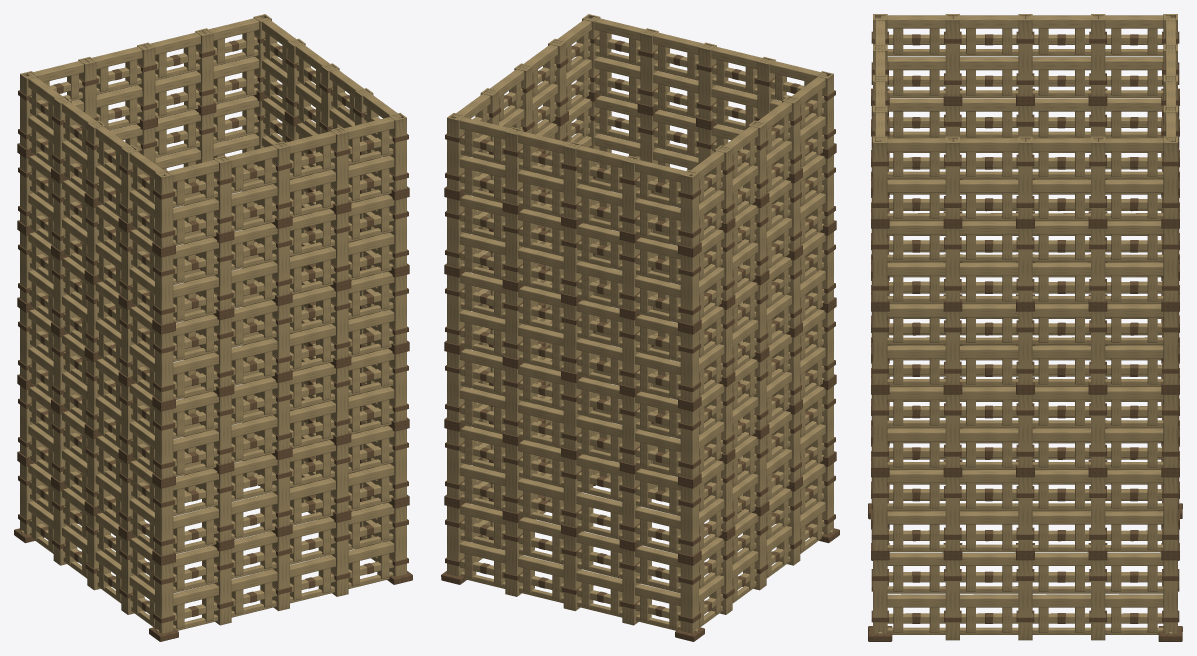
3 renders of one model, left to right at view 1: azimuth 30°, elevation 25°; view 2: azimuth 150°, elevation 25°; view 3: azimuth 270°, elevation 25°, orthographic. The views are drawn at different scales.
Parts seen in each view (by area): view 1: Tier 5 side 0 post 0, Tier 0 side 0 post 0, Tier 3 side 0 post 0, Tier 2 side 0 post 0, Tier 4 side 0 post 0, Tier 1 side 0 post 0, Tier 5 side 2 post 2, Tier 0 side 0 post 1, Tier 0 side 0 post 3, Tier 5 side 0 post 1, Tier 5 side 0 post 3, Tier 5 side 2 post 1 (+107 smaller); view 2: Tier 5 side 3 post 0, Tier 0 side 3 post 0, Tier 2 side 3 post 0, Tier 3 side 3 post 0, Tier 4 side 3 post 0, Tier 1 side 3 post 0, Tier 0 side 2 post 2, Tier 5 side 2 post 2, Tier 5 side 0 post 2, Tier 0 side 2 post 1, Tier 5 side 2 post 1, Tier 0 side 2 post 3 (+107 smaller); view 3: Tier 5 side 1 post 2, Tier 0 side 1 post 2, Tier 0 side 1 post 1, Tier 0 side 1 post 3, Tier 5 side 1 post 1, Tier 5 side 1 post 3, Tier 5 side 2 post 0, Tier 5 side 1 post 0, Tier 5 side 3 post 2, Tier 5 side 3 post 1, Tier 5 side 3 post 3, Tier 3 side 1 post 0 (+81 smaller).
Boxes of the visible parts, bbox=[...] form: Tier 5 side 0 post 0: bbox=[155, 170, 173, 247]; Tier 0 side 0 post 0: bbox=[155, 562, 173, 633]; Tier 3 side 0 post 0: bbox=[155, 330, 173, 401]; Tier 2 side 0 post 0: bbox=[155, 407, 173, 478]; Tier 4 side 0 post 0: bbox=[155, 253, 173, 324]; Tier 1 side 0 post 0: bbox=[155, 484, 173, 555]; Tier 5 side 2 post 2: bbox=[137, 42, 155, 120]; Tier 0 side 0 post 1: bbox=[214, 548, 231, 625]; Tier 0 side 0 post 3: bbox=[331, 520, 348, 596]; Tier 5 side 0 post 1: bbox=[213, 155, 231, 233]; Tier 5 side 0 post 3: bbox=[330, 127, 348, 204]; Tier 5 side 2 post 1: bbox=[195, 28, 213, 106]; Tier 5 side 3 post 0: bbox=[680, 170, 698, 247]; Tier 0 side 3 post 0: bbox=[680, 562, 698, 633]; Tier 2 side 3 post 0: bbox=[680, 407, 698, 478]; Tier 3 side 3 post 0: bbox=[680, 330, 698, 401]; Tier 4 side 3 post 0: bbox=[680, 253, 698, 324]; Tier 1 side 3 post 0: bbox=[680, 484, 698, 555]; Tier 0 side 2 post 2: bbox=[563, 534, 581, 611]; Tier 5 side 2 post 2: bbox=[563, 141, 581, 219]; Tier 5 side 0 post 2: bbox=[698, 42, 716, 120]; Tier 0 side 2 post 1: bbox=[505, 520, 523, 596]; Tier 5 side 2 post 1: bbox=[505, 127, 523, 204]; Tier 0 side 2 post 3: bbox=[622, 548, 640, 625]; Tier 5 side 1 post 2: bbox=[1018, 136, 1032, 218]; Tier 0 side 1 post 2: bbox=[1018, 560, 1032, 640]; Tier 0 side 1 post 1: bbox=[945, 560, 959, 640]; Tier 0 side 1 post 3: bbox=[1091, 560, 1105, 640]; Tier 5 side 1 post 1: bbox=[945, 136, 959, 218]; Tier 5 side 1 post 3: bbox=[1091, 136, 1105, 218]; Tier 5 side 2 post 0: bbox=[1163, 136, 1177, 218]; Tier 5 side 1 post 0: bbox=[873, 136, 887, 218]; Tier 5 side 3 post 2: bbox=[1018, 14, 1032, 95]; Tier 5 side 3 post 1: bbox=[1091, 14, 1105, 95]; Tier 5 side 3 post 3: bbox=[945, 14, 959, 95]; Tier 3 side 1 post 0: bbox=[873, 311, 887, 384].
Size of the model in its own units: 1.95 by 3.4 by 1.95.
2 materials, 2 textured.
